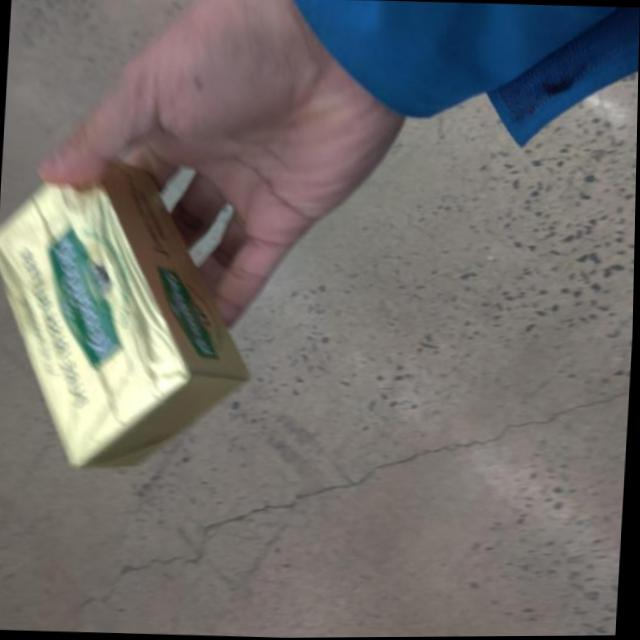Butter: (0, 150, 265, 475)
